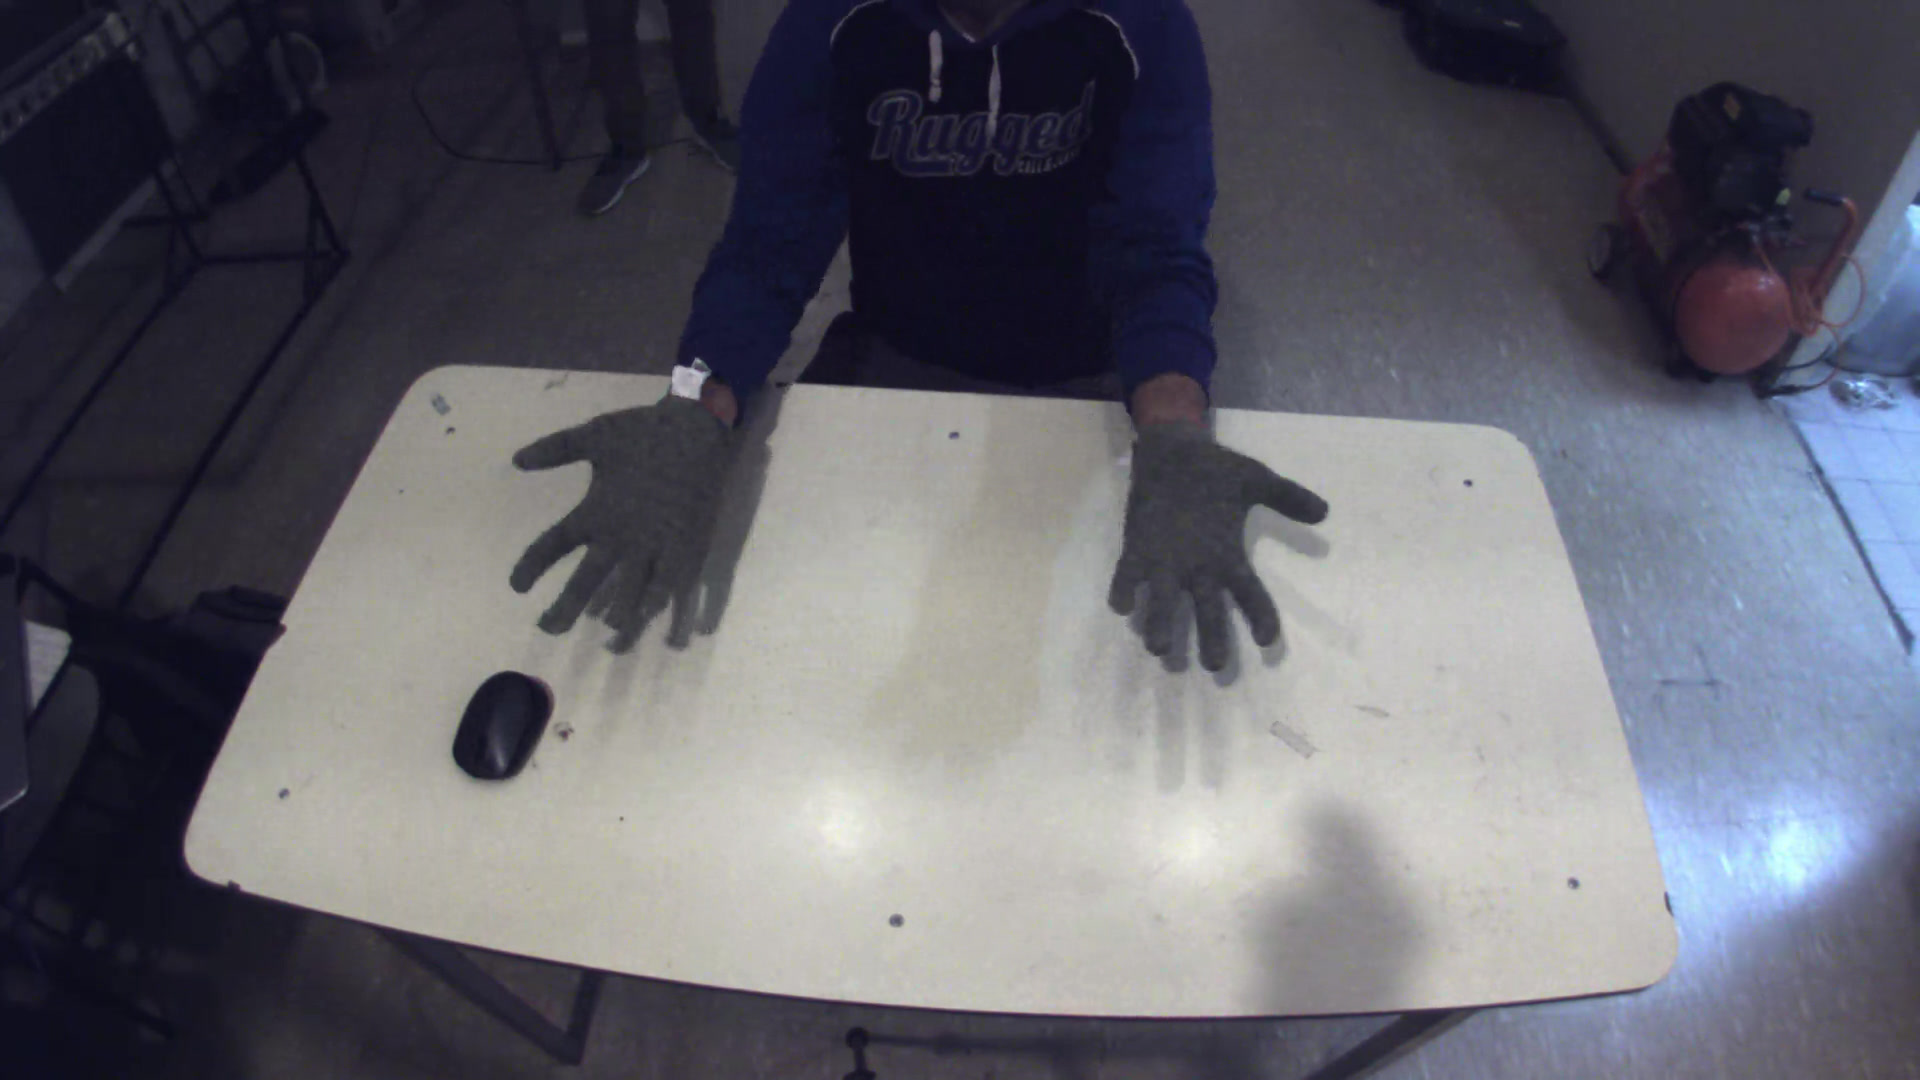hand: (1087, 409, 1352, 692), (485, 384, 744, 647)
